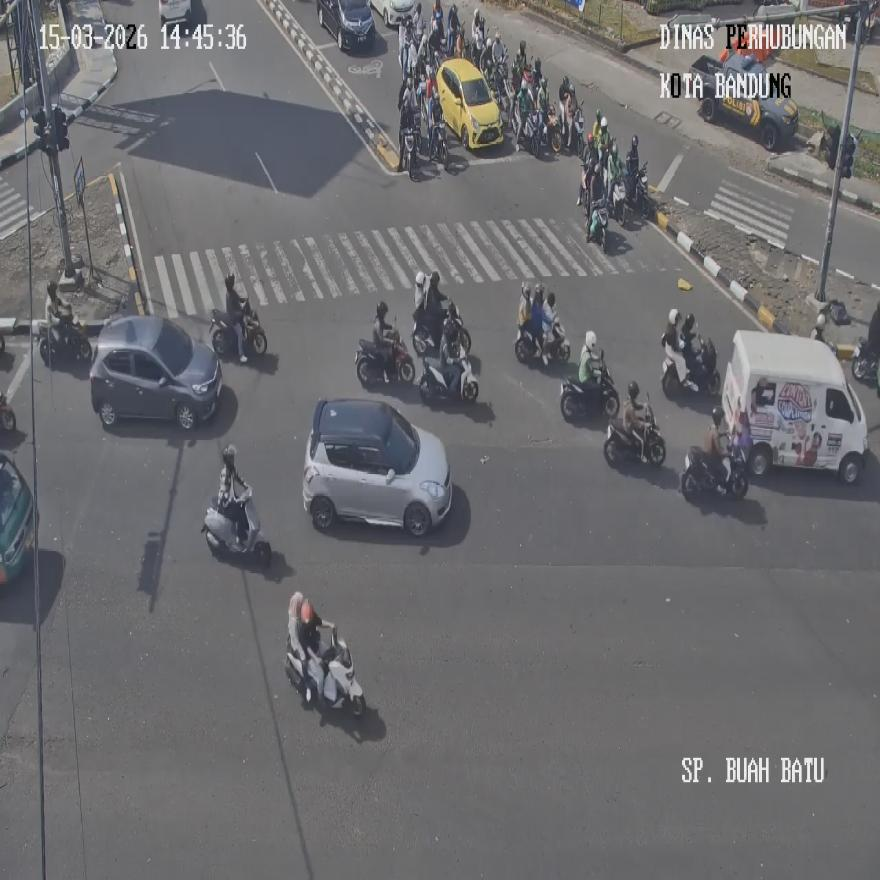Motor: (720, 330, 868, 483), (302, 397, 452, 537), (89, 314, 221, 430), (317, 0, 374, 51)
Truk: (286, 625, 364, 716), (202, 490, 270, 567), (604, 391, 664, 466), (681, 440, 748, 499), (662, 336, 721, 400), (209, 300, 266, 360), (411, 301, 471, 358), (560, 362, 618, 420), (355, 332, 414, 385), (419, 353, 479, 402), (39, 314, 92, 367), (515, 319, 571, 364), (626, 160, 652, 218), (851, 337, 878, 385), (518, 108, 544, 155), (587, 202, 608, 250), (428, 121, 449, 169), (401, 127, 420, 180), (608, 177, 627, 226), (546, 102, 562, 152), (0, 392, 14, 431)
